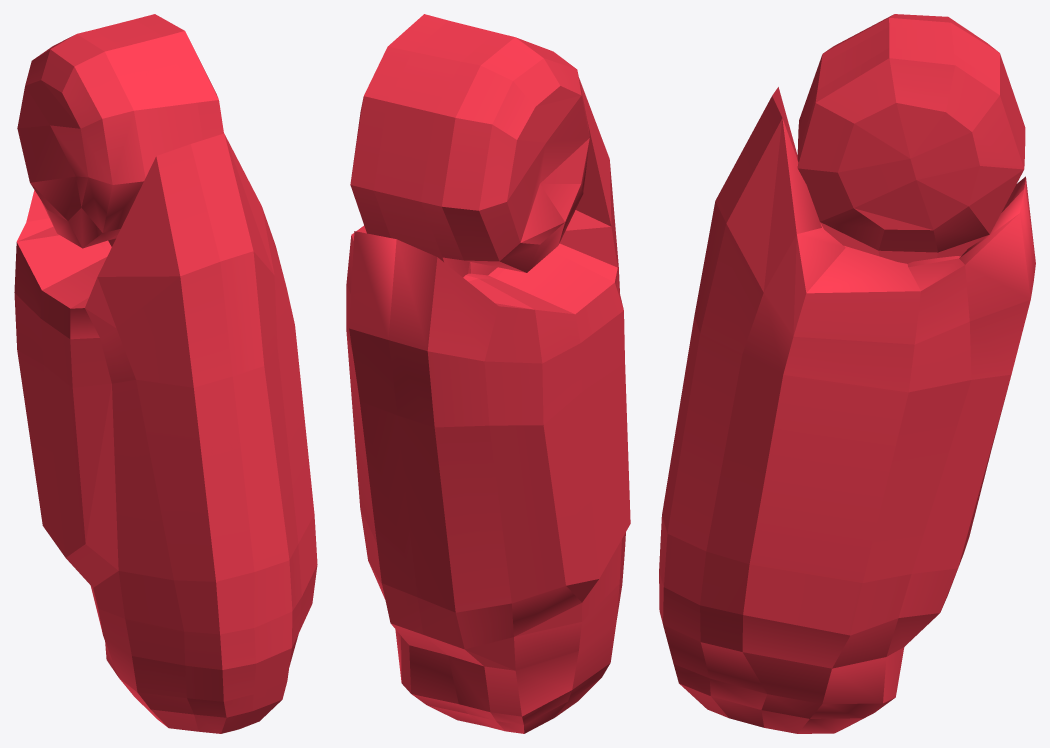
File: right_thigh.fbx
3 views of the same model, side by side, from view 1: azimuth 30°, elevation 25°; view 2: azimuth 150°, elevation 25°; view 3: azimuth 270°, elevation 25° (orthographic). The views are drawn at different scales.
Visible parts, largest first — view 1: right_thigh; view 2: right_thigh; view 3: right_thigh.
Part boxes in pixels (<box>): right_thigh: <box>14,14,317,733</box>; right_thigh: <box>346,14,630,733</box>; right_thigh: <box>659,14,1035,733</box>.
Size of the model in its own units: 0.1872 by 0.5338 by 0.2693.
